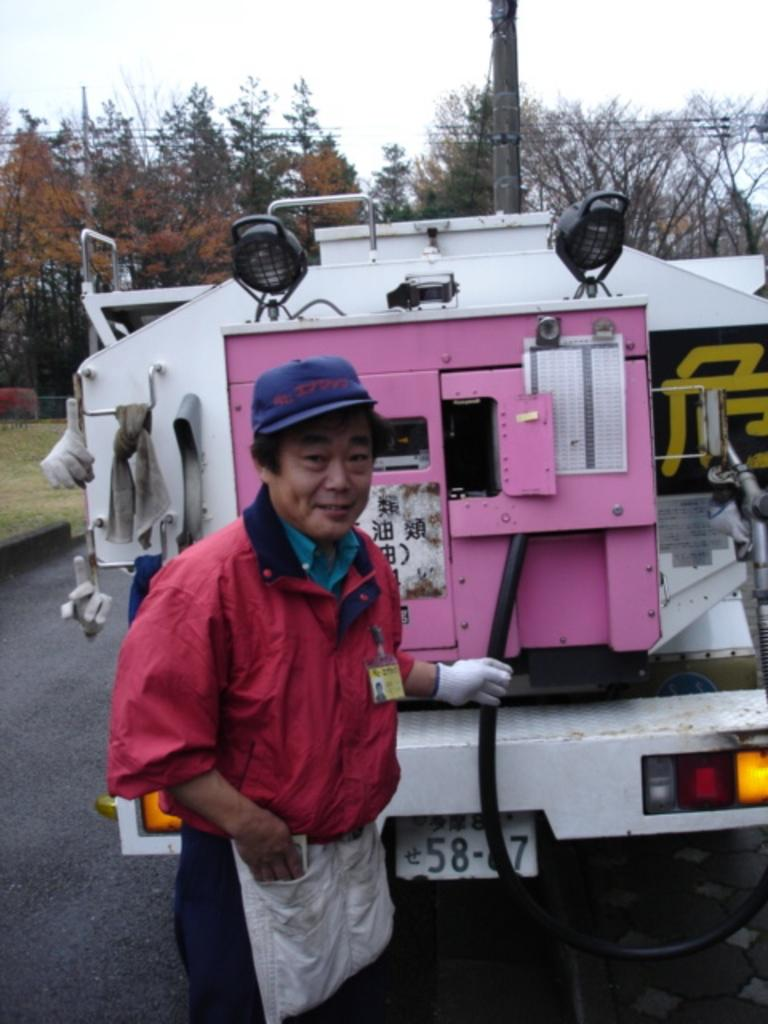Hat: (246, 355, 374, 443)
